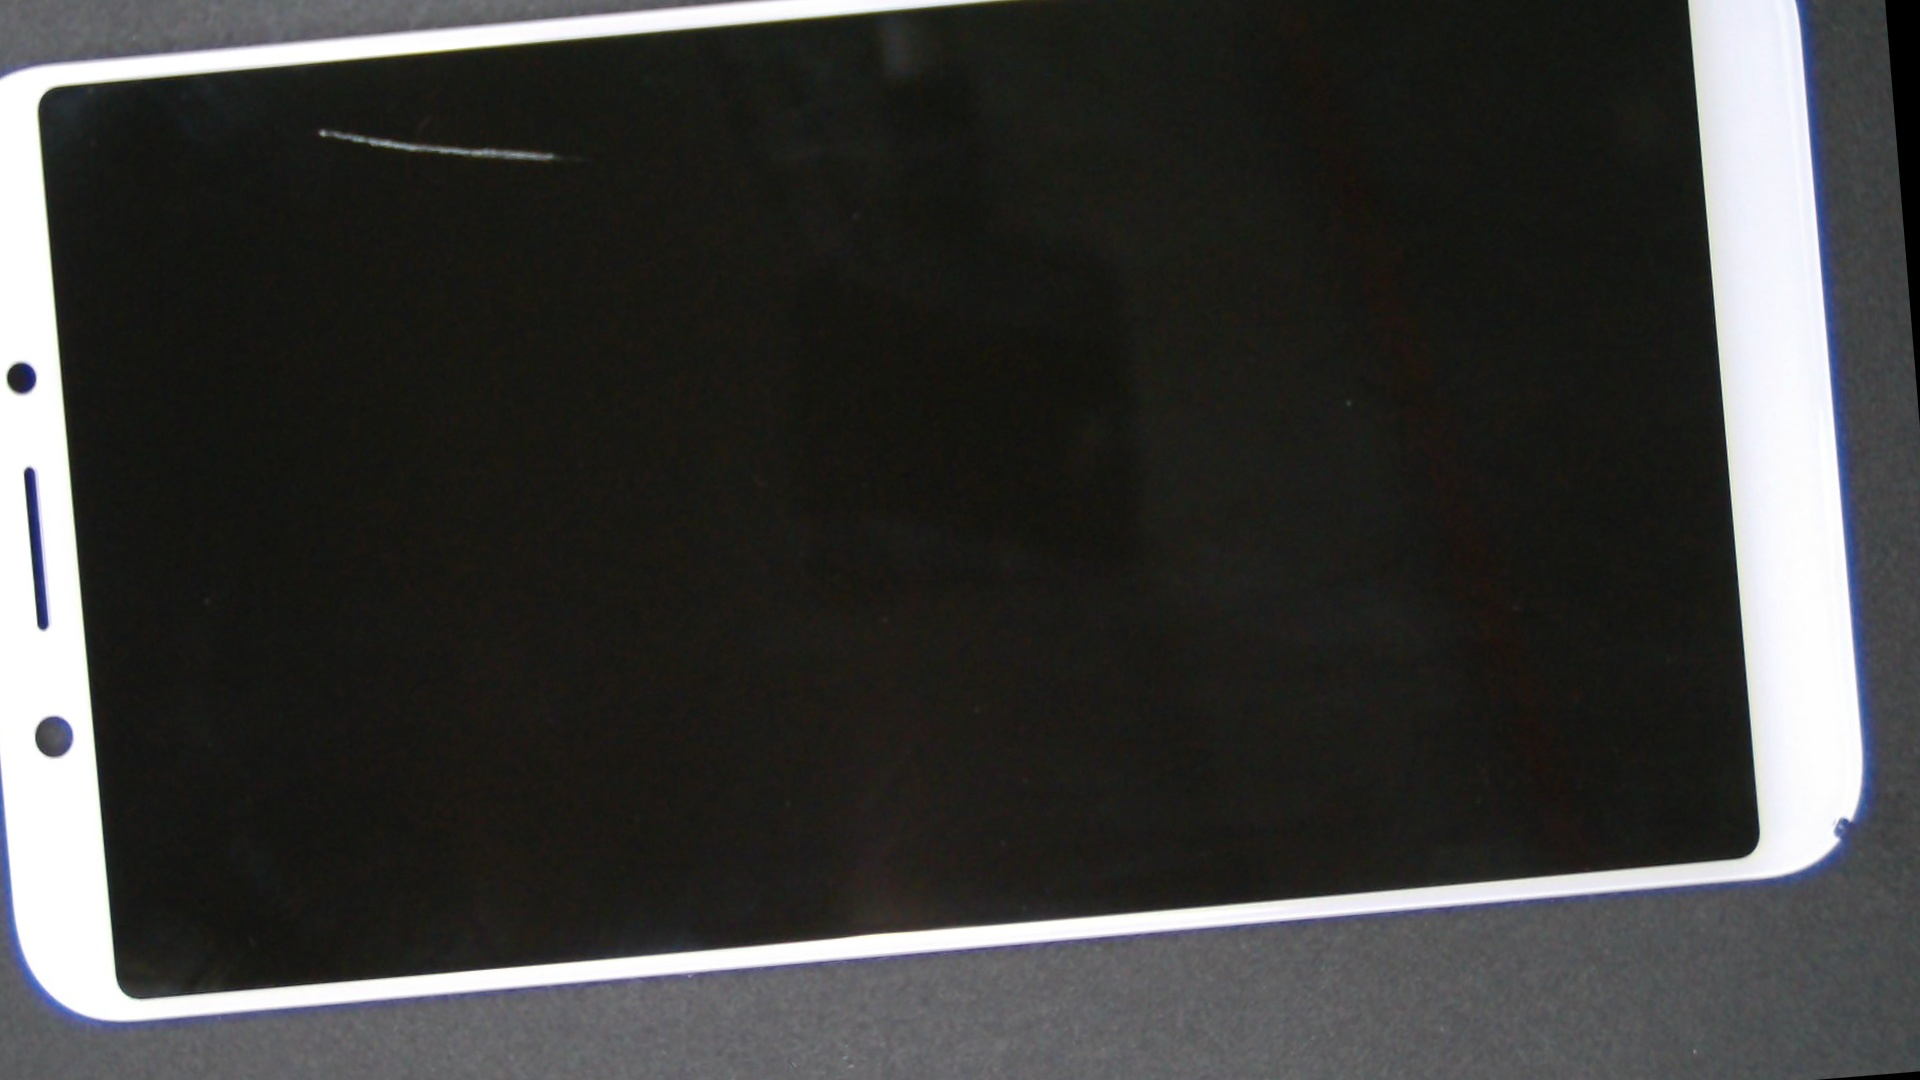oil: (108, 30, 538, 227)
